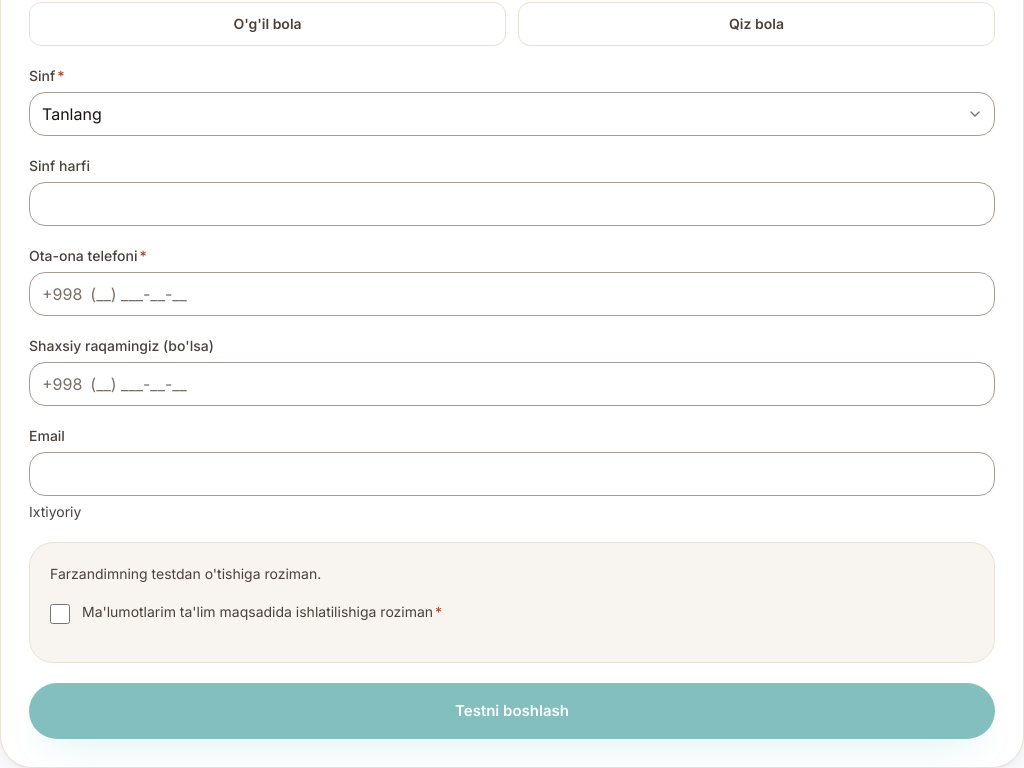
Test: RegistrationPage › telefon maydoni +998 (__) ___-__-__ maskasida formatlaydi
(page scrolled)
Expected: the text "Farzandimning testdan o'tishiga roziman." is shown, [50,565,321,582]
In the field labelled "Shaxsiy raqamingiz (bo'lsa)": (538, 384) [82,363,994,405], type "901234567"
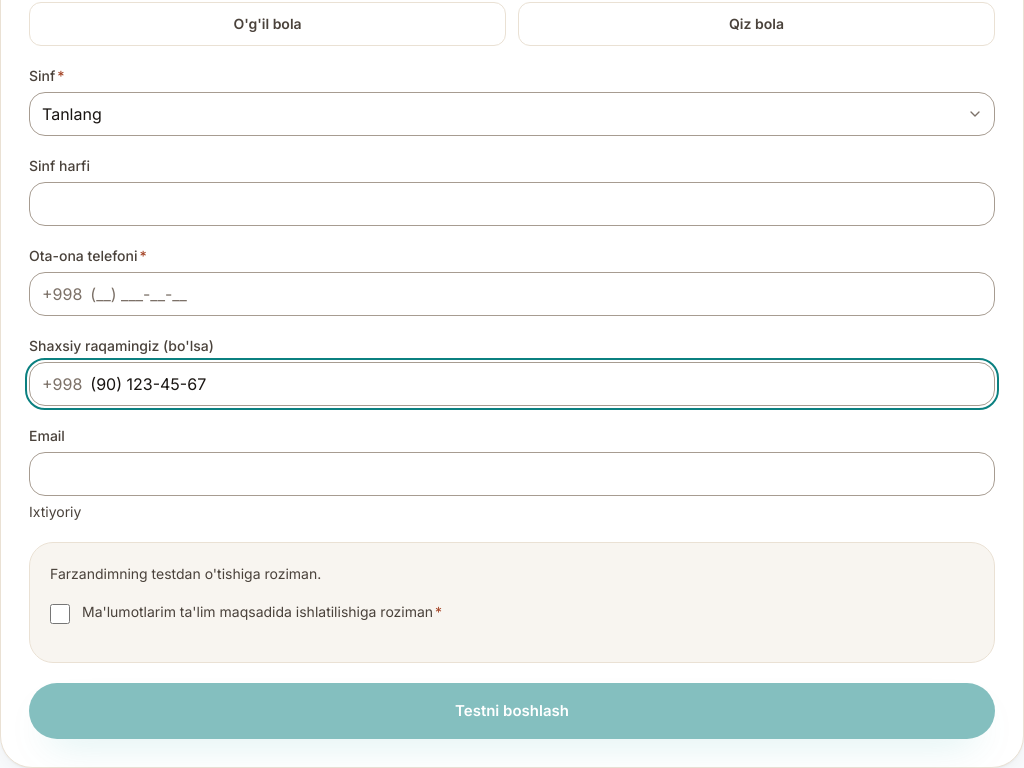
Expected: the text "+998" below "Ota-ona telefoni" is shown, [42,284,82,304]
Expected: the field labelled "Shaxsiy raqamingiz (bo'lsa)" holds "(90) 123-45-67", [82,363,994,405]
